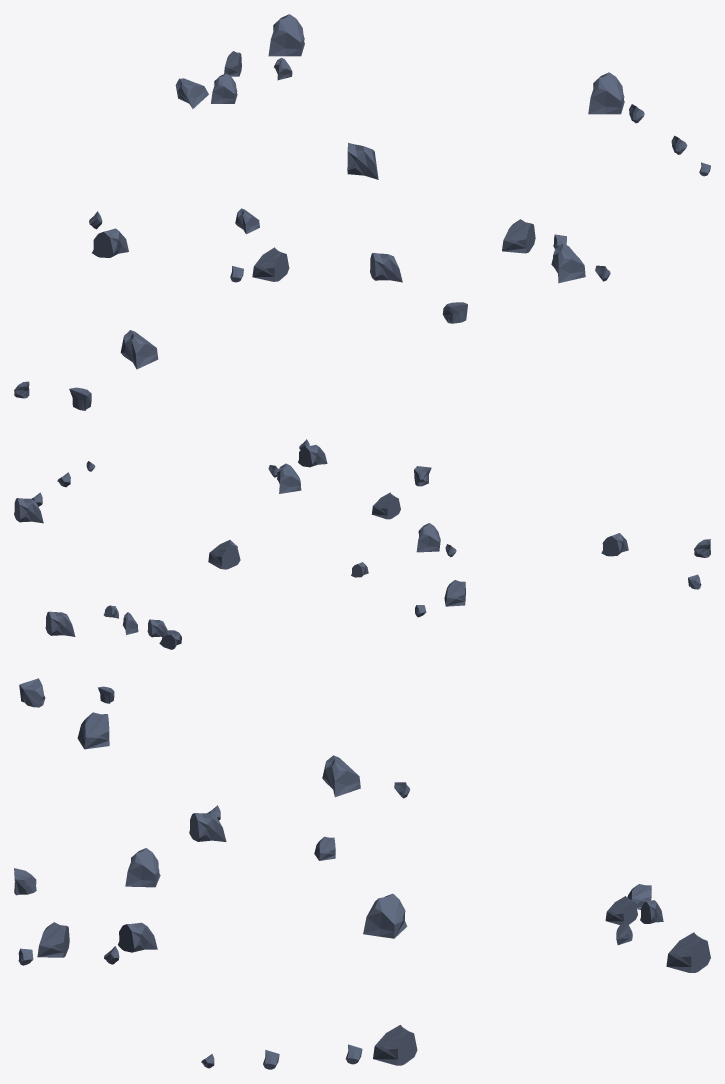
The model's file is RocksGarden.fbx.
3 views of the same model, one above another, from view 1: azimuth 30°, elevation 25°; view 2: azimuth 150°, elevation 25°; view 3: azimuth 270°, elevation 25° (orthographic). The views are drawn at different scales.
Parts seen in each view (by area): view 1: SP_Rock06.001; view 2: SP_Rock06.001; view 3: SP_Rock06.001.
Boxes of the visible parts, x1=… form: SP_Rock06.001: x1=14, y1=14, x2=710, y2=410; SP_Rock06.001: x1=14, y1=439, x2=710, y2=649; SP_Rock06.001: x1=14, y1=678, x2=710, y2=1069.
Size of the model in its own units: 39.95 by 2.1 by 30.65.
Materials: 1 (1 with a texture image).
